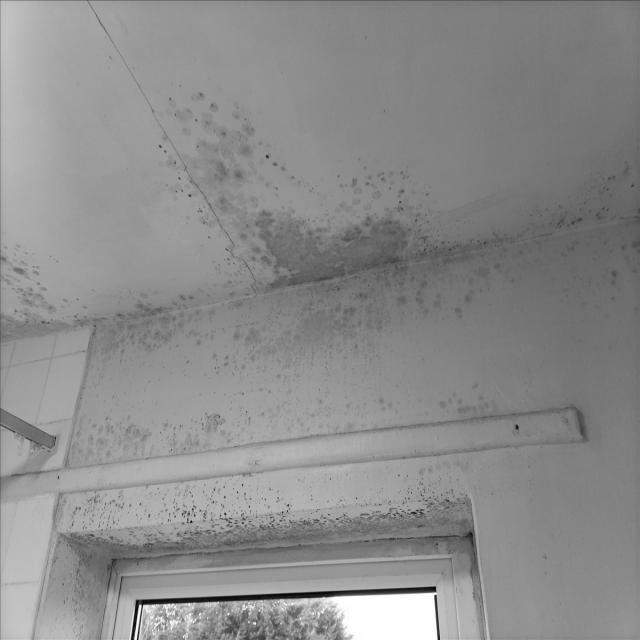stain marks: (34, 390, 516, 640), (142, 70, 518, 281), (519, 128, 640, 361), (234, 284, 498, 389), (0, 233, 96, 380), (99, 282, 232, 386)
